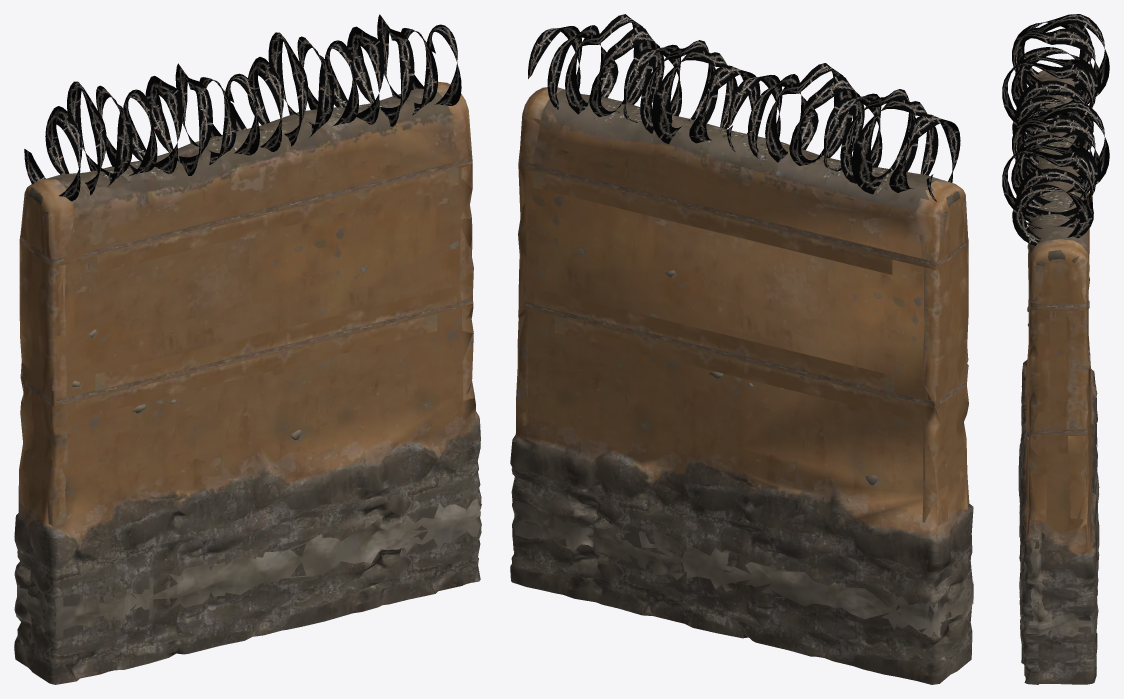
File: wall.external.high.adobe.glb
3 renders of one model, left to right at view 1: azimuth 30°, elevation 25°; view 2: azimuth 150°, elevation 25°; view 3: azimuth 270°, elevation 25°, orthographic. The views are drawn at different scales.
Parts seen in each view (by area): view 1: wall.external.high.adobe_LOD0, barbedwire_set_straight300, barbedwire_set_straight300 (1); view 2: wall.external.high.adobe_LOD0, barbedwire_set_straight300, barbedwire_set_straight300 (1); view 3: wall.external.high.adobe_LOD0, barbedwire_set_straight300 (1), barbedwire_set_straight300.
Part boxes in pixels (left/top/right/bottom): wall.external.high.adobe_LOD0: left=14, top=81, right=481, bottom=684; barbedwire_set_straight300: left=24, top=63, right=259, bottom=201; barbedwire_set_straight300 (1): left=231, top=14, right=461, bottom=151; wall.external.high.adobe_LOD0: left=510, top=87, right=973, bottom=684; barbedwire_set_straight300: left=728, top=63, right=960, bottom=201; barbedwire_set_straight300 (1): left=528, top=14, right=760, bottom=151; wall.external.high.adobe_LOD0: left=1018, top=70, right=1099, bottom=684; barbedwire_set_straight300 (1): left=1002, top=102, right=1109, bottom=245; barbedwire_set_straight300: left=1002, top=14, right=1109, bottom=157.
Size of the model in its own units: 6.47 by 8.07 by 1.55.
Materials: 5 (5 with a texture image).
